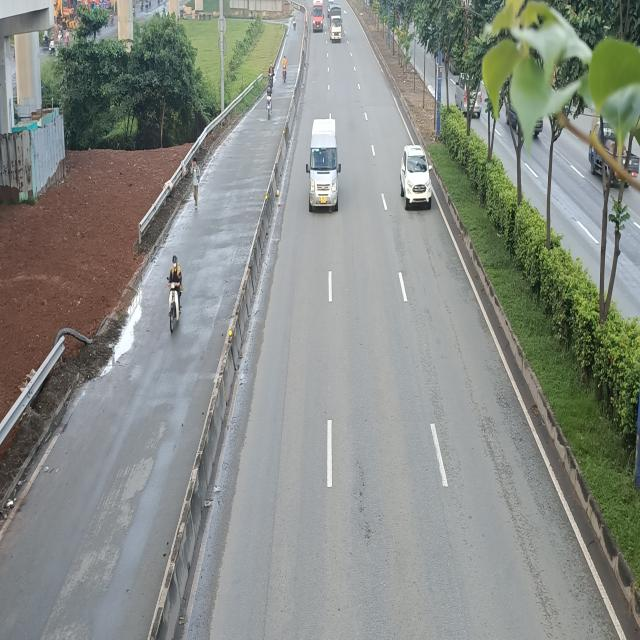car: (401, 146, 434, 209)
van: (309, 118, 343, 213)
